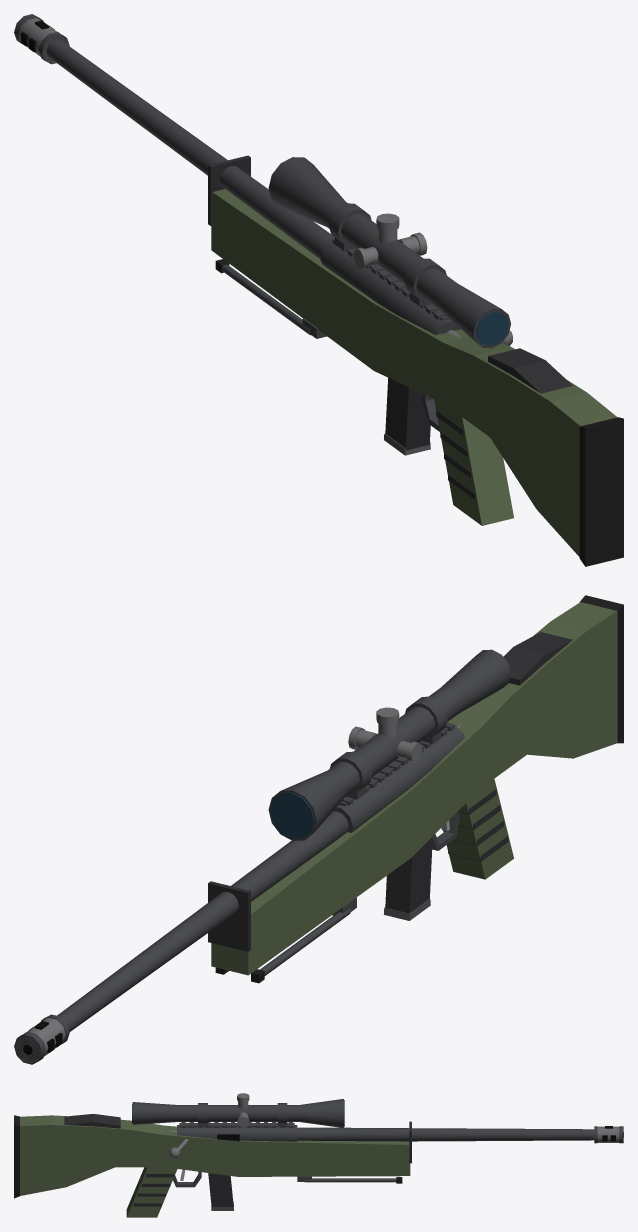
The model's file is AWM_Sniper.glb.
3 views of the same model, one above another, from view 1: azimuth 30°, elevation 25°; view 2: azimuth 150°, elevation 25°; view 3: azimuth 270°, elevation 25° (orthographic). The views are drawn at different scales.
Visible parts, largest first — view 1: Body, Action, Scope, Magazine, Bipod; view 2: Body, Action, Scope, Magazine, Bipod; view 3: Body, Action, Scope, Magazine, Bipod, BoltHandle.
Boxes of the visible parts, bbox=[...] form: Body: bbox=[208, 155, 623, 566]; Action: bbox=[14, 14, 460, 335]; Scope: bbox=[268, 157, 510, 348]; Magazine: bbox=[384, 377, 430, 455]; Bipod: bbox=[215, 259, 326, 338]; Body: bbox=[208, 595, 623, 975]; Action: bbox=[14, 722, 464, 1064]; Scope: bbox=[268, 649, 510, 840]; Magazine: bbox=[383, 837, 432, 920]; Bipod: bbox=[215, 897, 356, 983]; Body: bbox=[14, 1114, 411, 1217]; Action: bbox=[177, 1122, 623, 1143]; Scope: bbox=[132, 1093, 344, 1127]; Magazine: bbox=[208, 1173, 233, 1210]; Bipod: bbox=[297, 1176, 402, 1183]; BoltHandle: bbox=[165, 1130, 188, 1158].
Bounding box in the file's own units: 0.1094 × 0.265 × 1.24.
